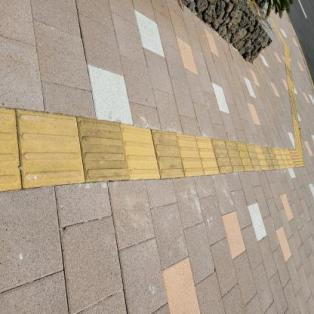Podoctatil: (0, 100, 309, 196), (266, 7, 302, 100)
